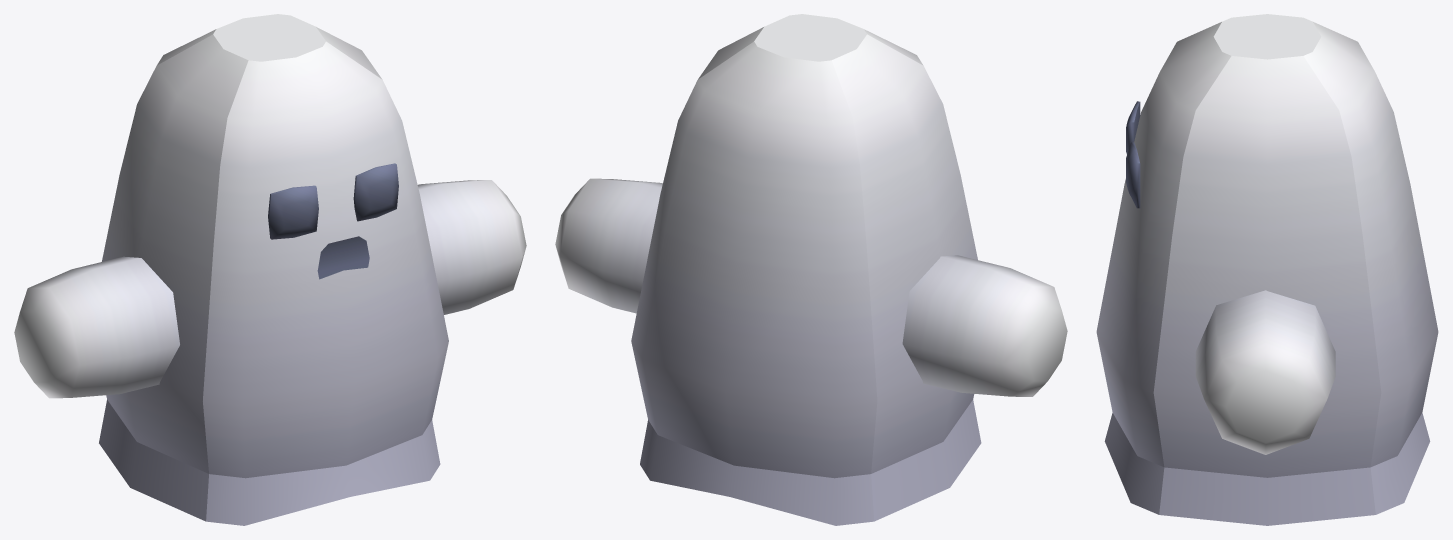
File: ghost.glb
The picture shows the model from 3 angles, left to right: view 1: azimuth 30°, elevation 25°; view 2: azimuth 150°, elevation 25°; view 3: azimuth 270°, elevation 25°; orthographic projection.
Parts seen in each view (by area): view 1: torso, arm-right, arm-left; view 2: torso, arm-right, arm-left; view 3: torso, arm-left.
Boxes of the visible parts, left/top/right/bottom form: torso: left=99, top=14, right=448, bottom=525; arm-right: left=14, top=256, right=179, bottom=398; arm-left: left=417, top=180, right=526, bottom=314; torso: left=631, top=14, right=981, bottom=525; arm-right: left=902, top=255, right=1067, bottom=396; arm-left: left=555, top=178, right=662, bottom=313; torso: left=1096, top=14, right=1438, bottom=525; arm-left: left=1195, top=290, right=1335, bottom=454.
Size of the model in its own units: 0.7881 by 0.6622 by 0.4882.
Materials: 1 (1 with a texture image).
